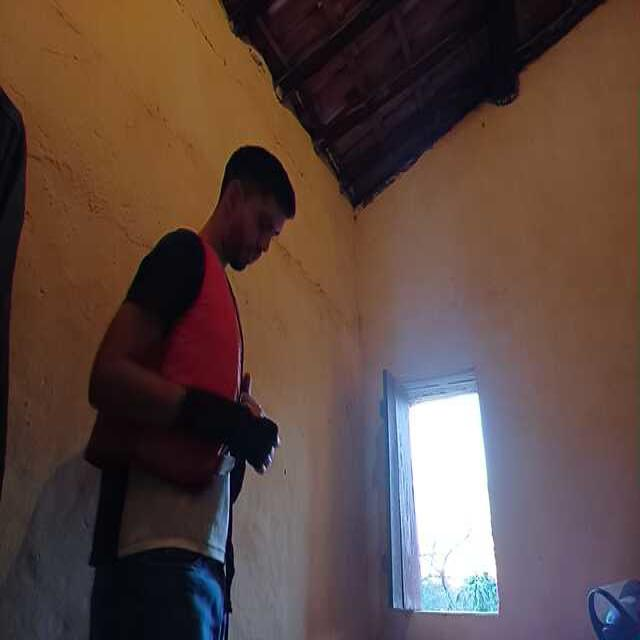capacete: (587, 570, 640, 640)
colete: (125, 231, 249, 487)
pessoa: (97, 150, 285, 640)
